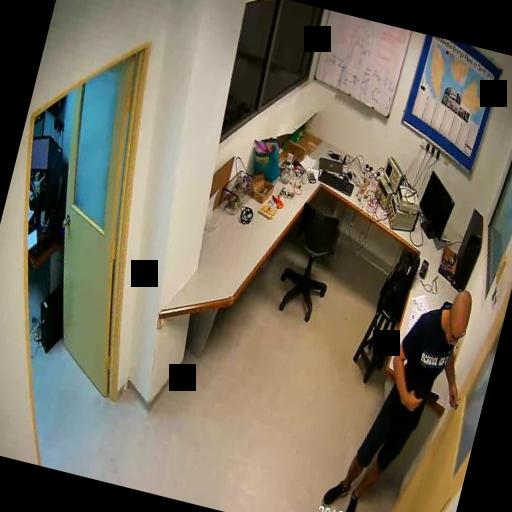Handgun: (407, 380, 441, 417)
